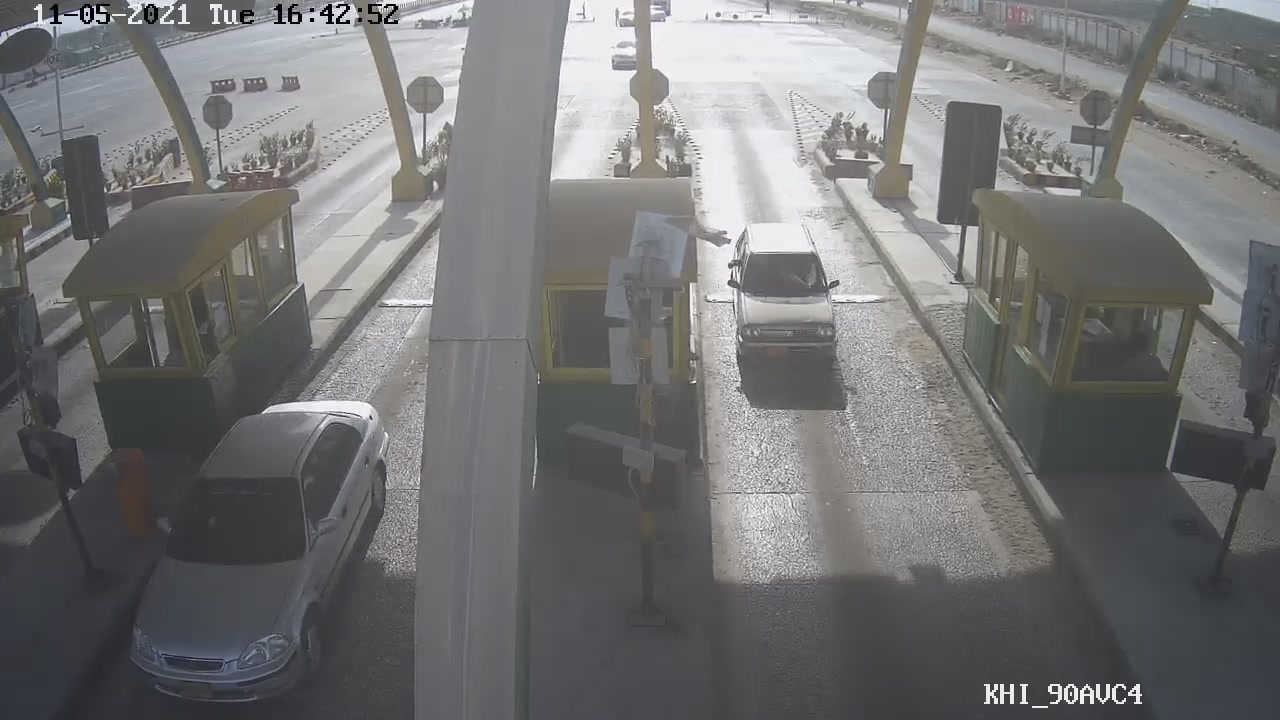F1: (718, 220, 846, 371)
